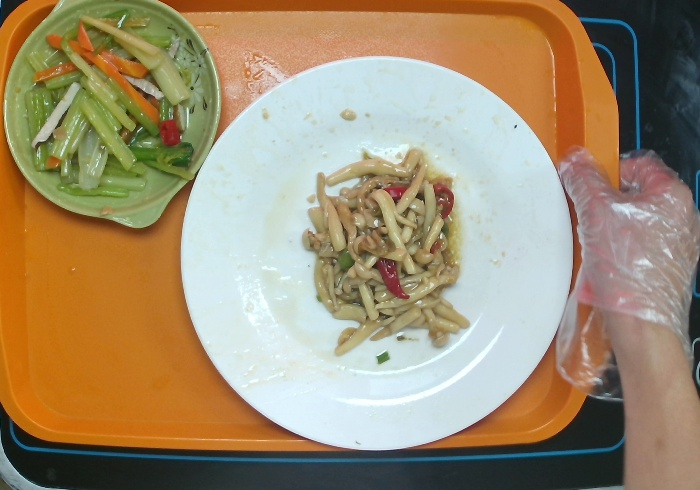NLDX-Da_Yuan_Pan: (178, 52, 582, 446)
NLDX-Lv_Hua_Shuang_Er_Die: (2, 1, 221, 238)
